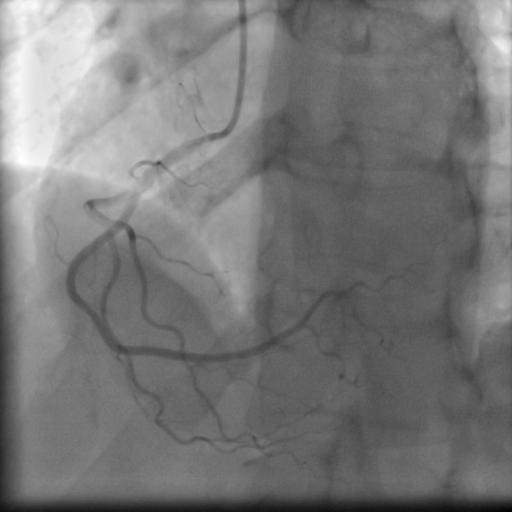Stenosis: (81, 296, 109, 343)
